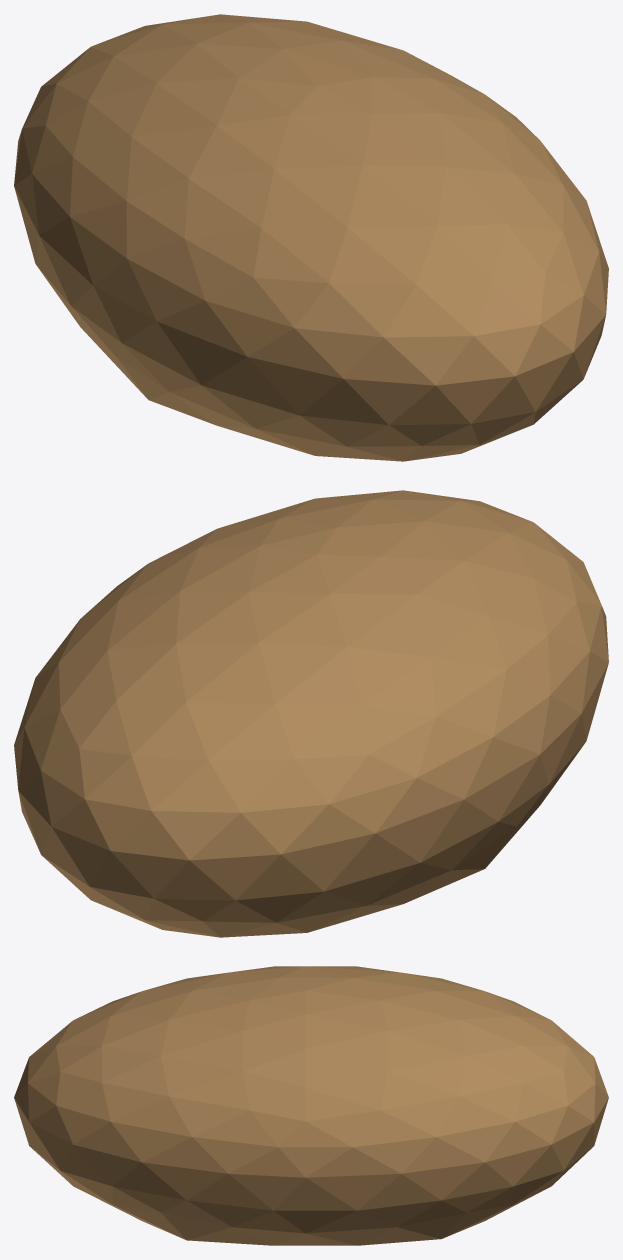
Rendered from bread.fbx.
3 views of the same model, one above another, from view 1: azimuth 30°, elevation 25°; view 2: azimuth 150°, elevation 25°; view 3: azimuth 270°, elevation 25° (orthographic). The views are drawn at different scales.
Visible parts, largest first — view 1: Icosphere; view 2: Icosphere; view 3: Icosphere.
Part boxes in pixels (box(x1,y1,x2,y2)): Icosphere: box(14, 14, 608, 461); Icosphere: box(14, 490, 608, 937); Icosphere: box(14, 966, 608, 1245).
Size of the model in its own units: 45.68 by 26.88 by 71.65.
